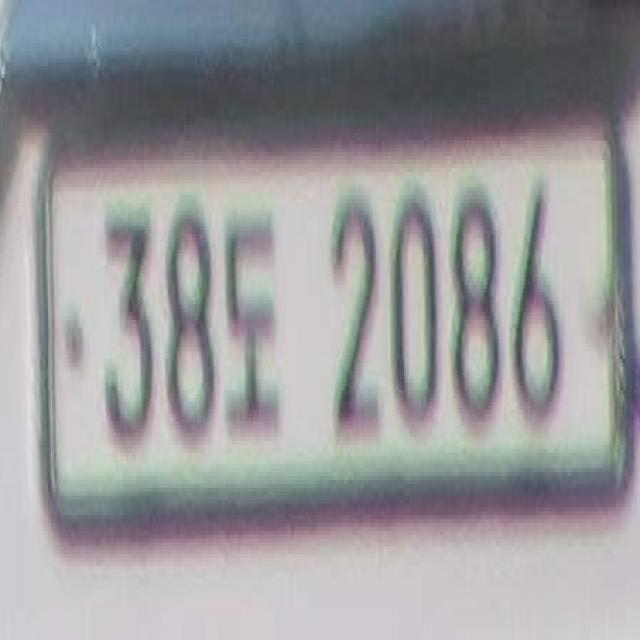0: (388, 184, 441, 426)
2: (326, 183, 382, 437)
3: (100, 199, 156, 445)
6: (508, 176, 561, 426)
8: (162, 199, 219, 441), (448, 183, 501, 430)
do: (220, 207, 286, 441)
license_plate: (44, 109, 623, 519)
